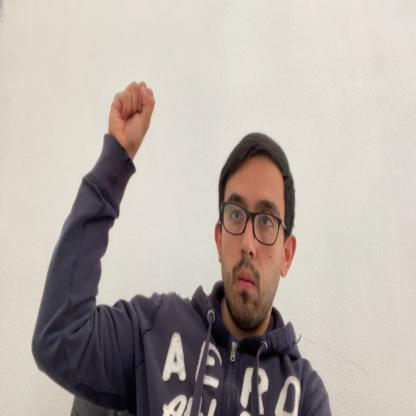S: (109, 79, 155, 150)
